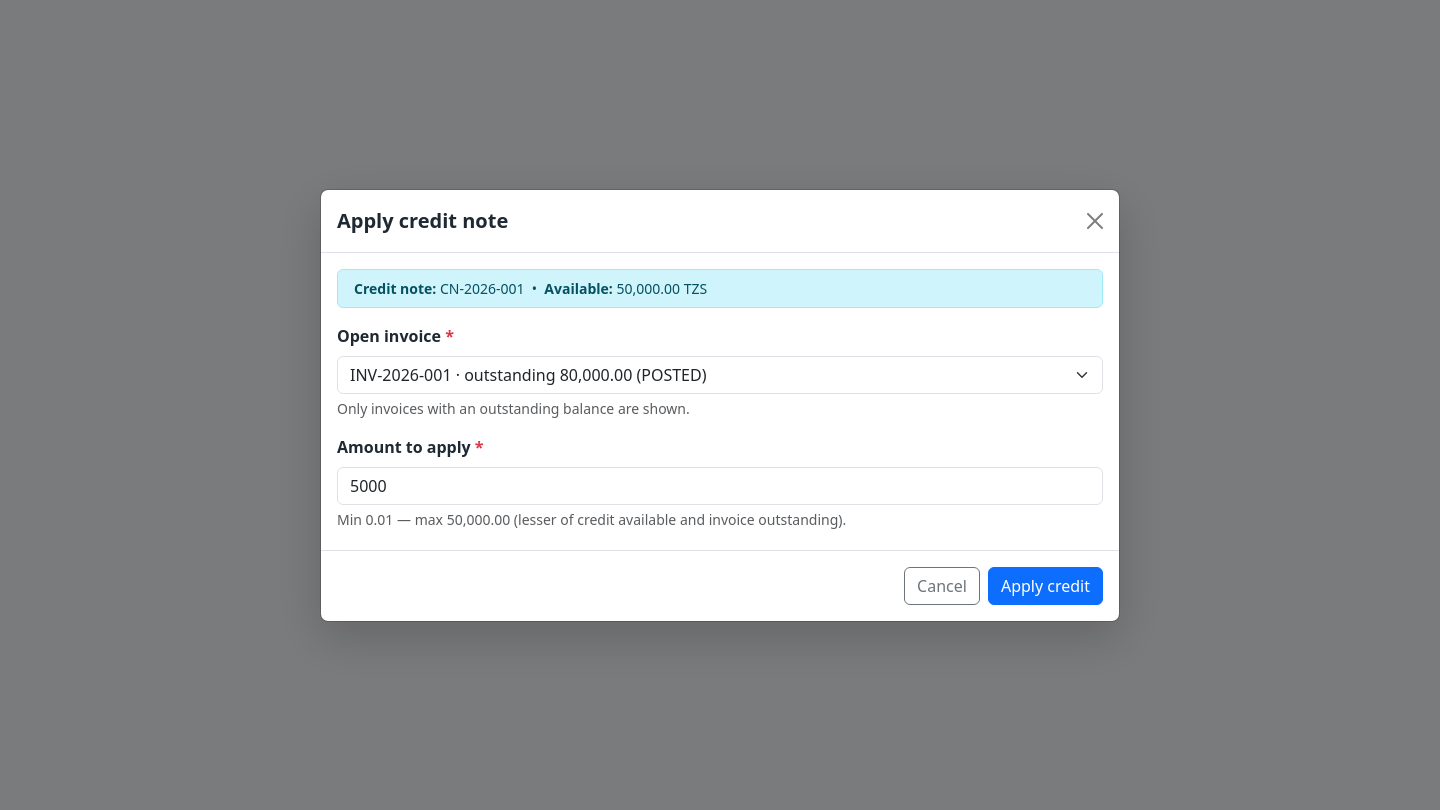
Scenario: CreditNoteApplyModalComponent › error handling › shows a generic banner for unexpected server errors
The width and height of the screenshot is (1440, 810).
Click the submit button at (1045, 586), box 988,566 -> 1103,604
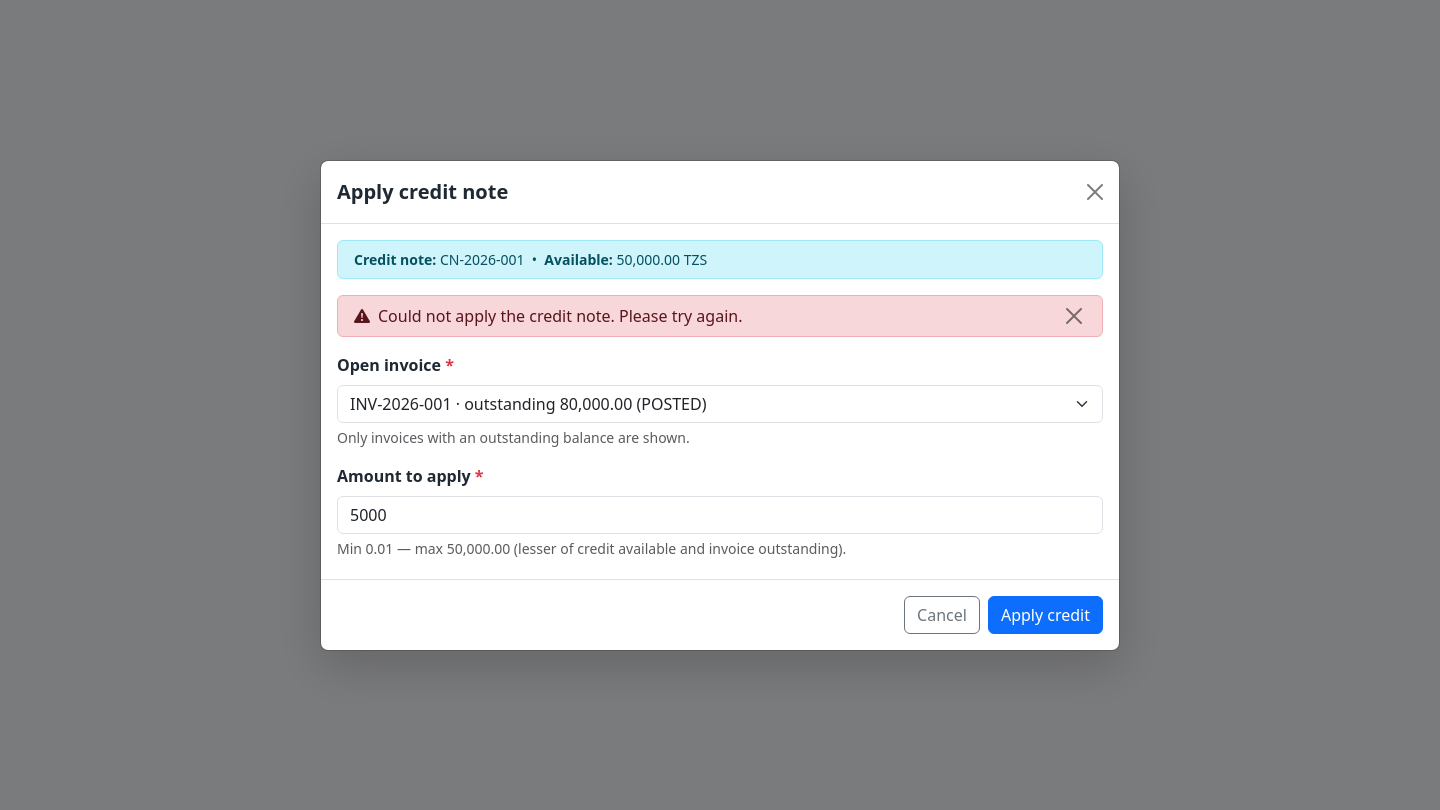
Expected: the text "Could not apply the credit note" is shown, 378,304 -> 742,326
